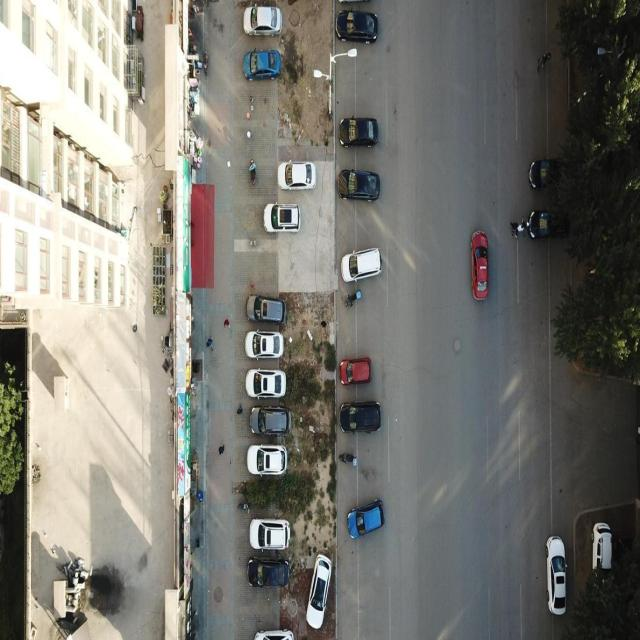p3rson: (512, 220, 523, 238), (204, 335, 214, 351), (217, 440, 225, 454), (223, 316, 230, 328), (320, 318, 327, 328)
